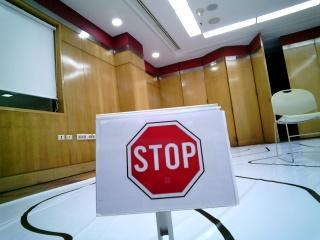stop: (104, 117, 226, 207)
